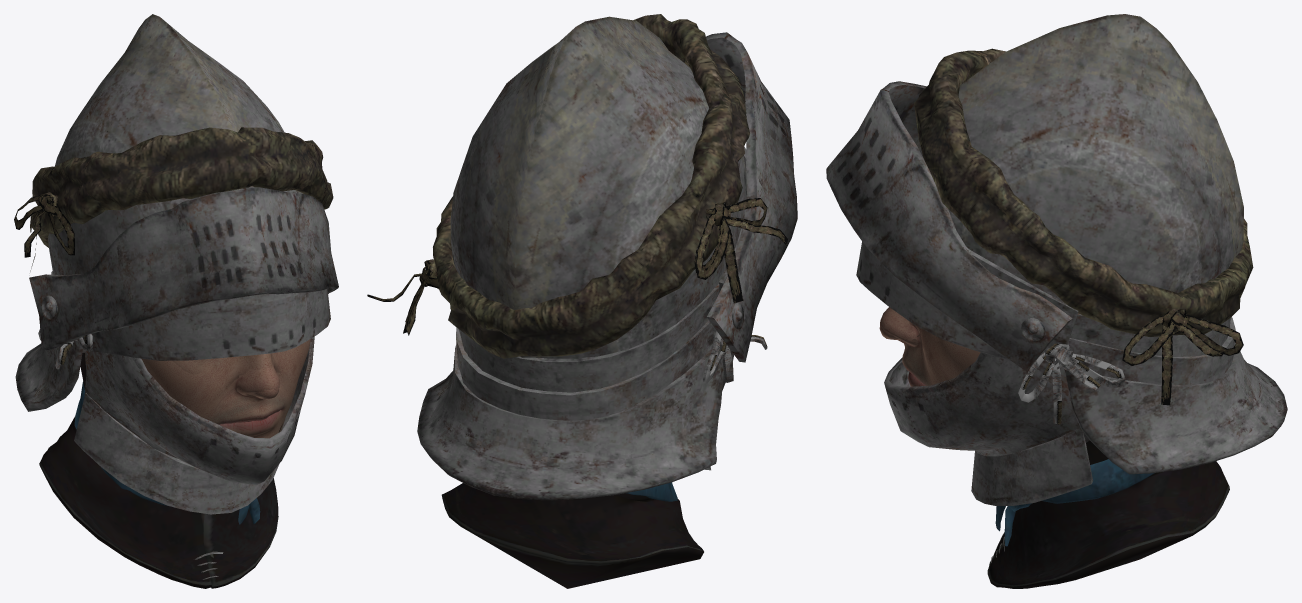
Rendered from H_Vagabond.glb.
3 views of the same model, side by side, from view 1: azimuth 30°, elevation 25°; view 2: azimuth 150°, elevation 25°; view 3: azimuth 270°, elevation 25° (orthographic). The views are drawn at different scales.
Visible parts, largest first — view 1: P[HD_M_1280]_metal_2side|P[HD_M_1280]_Metal.matxml|mesh0, P[HD_M_1280]_fabric|P[HD_M_1280]_Fabric.matxml|mesh1, #00#|P[FG_A_0151]_Face.matxml|mesh4, #00#|P[FG_A_0101]_Face.matxml|mesh0, P[HD_M_1280]_fabric_2side|P[HD_M_1280]_Fabric.matxml|mesh3, P[HD_M_1280]_belt_2side|P[HD_M_1280]_Belt.matxml|mesh2, #02#|P[FG_A_0101]_Face.matxml|mesh2; view 2: P[HD_M_1280]_metal_2side|P[HD_M_1280]_Metal.matxml|mesh0, P[HD_M_1280]_fabric|P[HD_M_1280]_Fabric.matxml|mesh1, P[HD_M_1280]_belt_2side|P[HD_M_1280]_Belt.matxml|mesh2; view 3: P[HD_M_1280]_metal_2side|P[HD_M_1280]_Metal.matxml|mesh0, P[HD_M_1280]_fabric|P[HD_M_1280]_Fabric.matxml|mesh1, #00#|P[FG_A_0151]_Face.matxml|mesh4, P[HD_M_1280]_belt_2side|P[HD_M_1280]_Belt.matxml|mesh2, P[HD_M_1280]_fabric_2side|P[HD_M_1280]_Fabric.matxml|mesh3.
Boxes of the visible parts, x1=… form: P[HD_M_1280]_metal_2side|P[HD_M_1280]_Metal.matxml|mesh0: x1=15, y1=14, x2=338, y2=514; P[HD_M_1280]_fabric|P[HD_M_1280]_Fabric.matxml|mesh1: x1=14, y1=127, x2=333, y2=588; #00#|P[FG_A_0151]_Face.matxml|mesh4: x1=141, y1=339, x2=310, y2=438; #00#|P[FG_A_0101]_Face.matxml|mesh0: x1=175, y1=353, x2=277, y2=373; P[HD_M_1280]_fabric_2side|P[HD_M_1280]_Fabric.matxml|mesh3: x1=74, y1=381, x2=260, y2=524; P[HD_M_1280]_belt_2side|P[HD_M_1280]_Belt.matxml|mesh2: x1=38, y1=328, x2=223, y2=579; #02#|P[FG_A_0101]_Face.matxml|mesh2: x1=172, y1=344, x2=302, y2=422; P[HD_M_1280]_metal_2side|P[HD_M_1280]_Metal.matxml|mesh0: x1=417, y1=16, x2=797, y2=500; P[HD_M_1280]_fabric|P[HD_M_1280]_Fabric.matxml|mesh1: x1=367, y1=14, x2=787, y2=588; P[HD_M_1280]_belt_2side|P[HD_M_1280]_Belt.matxml|mesh2: x1=703, y1=327, x2=767, y2=383; P[HD_M_1280]_metal_2side|P[HD_M_1280]_Metal.matxml|mesh0: x1=826, y1=14, x2=1287, y2=505; P[HD_M_1280]_fabric|P[HD_M_1280]_Fabric.matxml|mesh1: x1=914, y1=48, x2=1253, y2=588; #00#|P[FG_A_0151]_Face.matxml|mesh4: x1=880, y1=307, x2=980, y2=386; P[HD_M_1280]_belt_2side|P[HD_M_1280]_Belt.matxml|mesh2: x1=991, y1=343, x2=1125, y2=562; P[HD_M_1280]_fabric_2side|P[HD_M_1280]_Fabric.matxml|mesh3: x1=995, y1=459, x2=1154, y2=546.
Bounding box in the file's own units: 0.2084 × 0.3376 × 0.251.
Materials: 6 (5 with a texture image).
